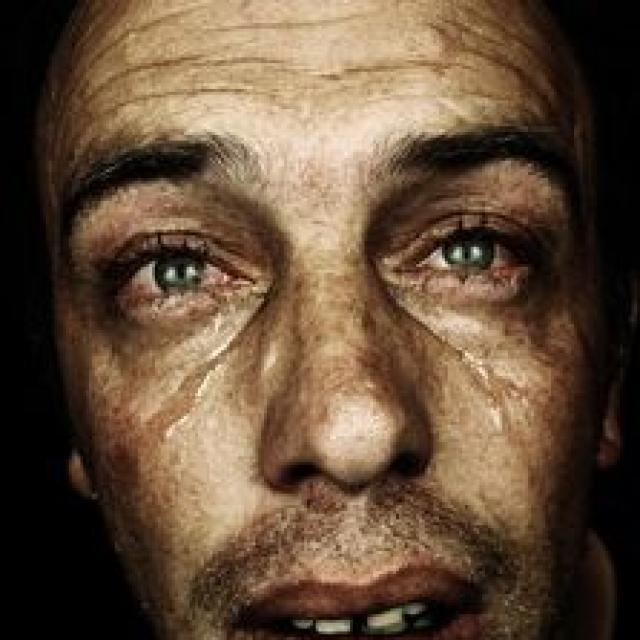Depress: (34, 7, 628, 637)
